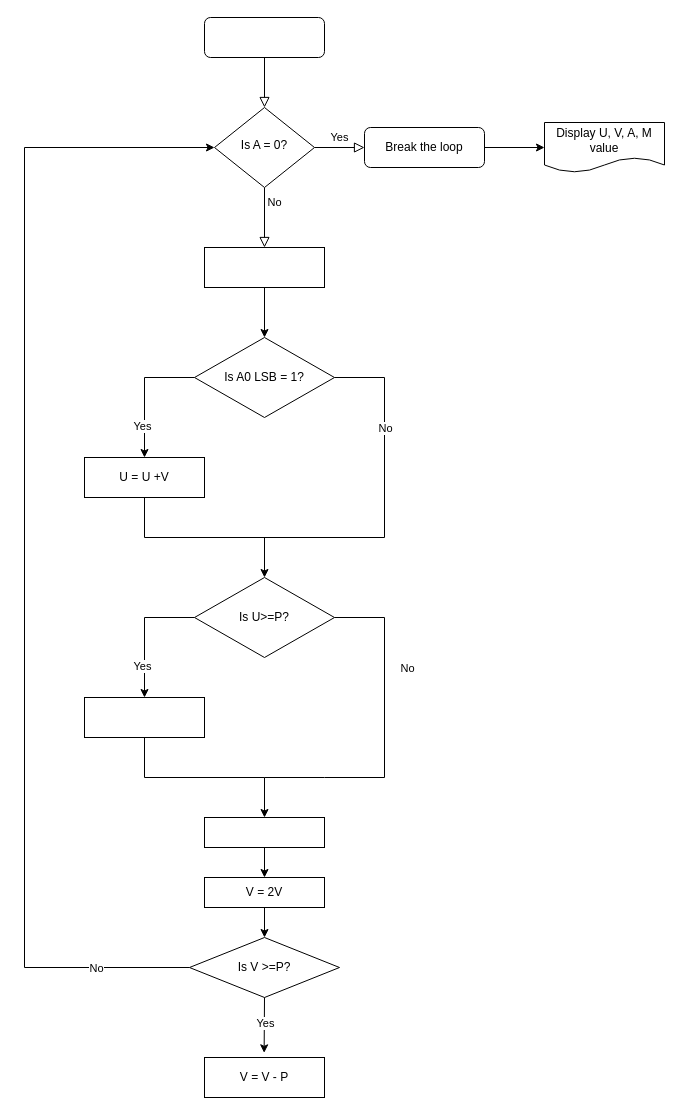
Some shapes in this 682 by 1115 pixel diagram are drawn without their labels. Each missing label, with the centre of its shape:
"A = A/2" goes at [264,832].
"Convert A into binary and assign as A0" goes at [264,267].
"U = U - P" goes at [144,717].
"U=0, V=x, A=y, P=M" goes at [264,37].
